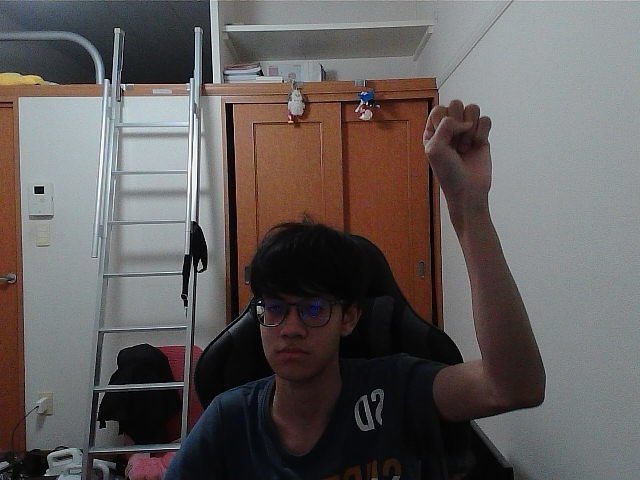closed_palm: (437, 103, 486, 185)
